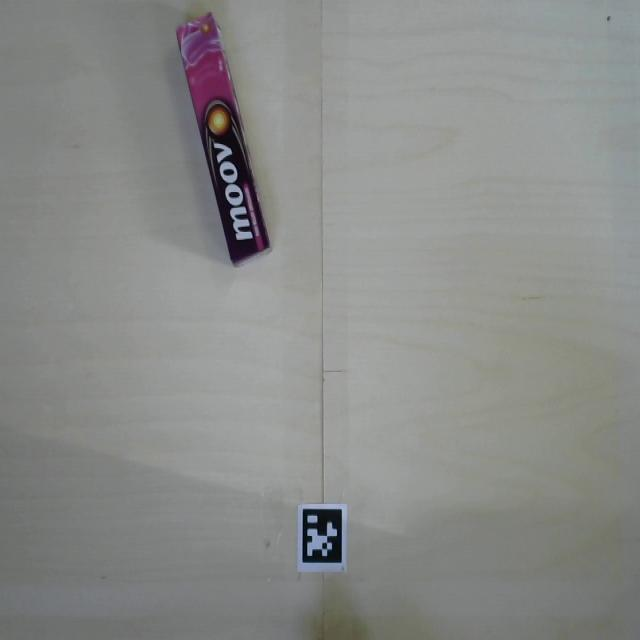moov: (171, 6, 276, 272)
